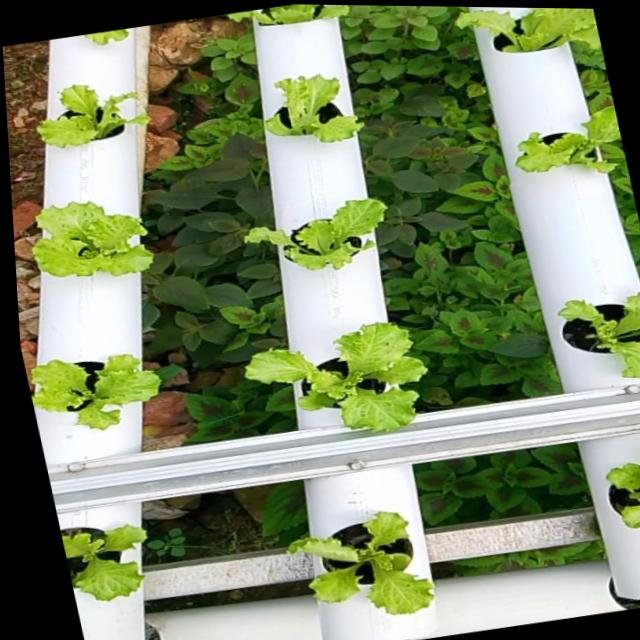Baby: (238, 325, 418, 432), (279, 511, 425, 614), (237, 201, 378, 272), (26, 355, 155, 430), (25, 204, 147, 279), (547, 288, 640, 380), (505, 107, 622, 176), (448, 8, 600, 57), (31, 88, 143, 150), (257, 78, 355, 146), (61, 524, 139, 600), (595, 457, 640, 533)
